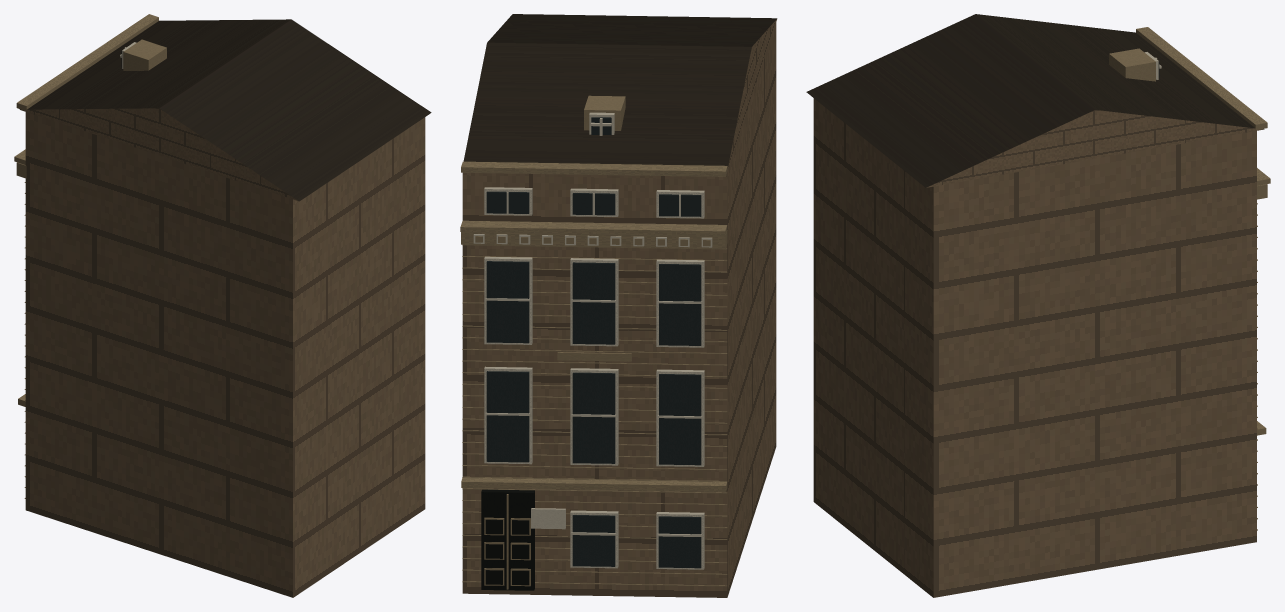
The picture shows the model from 3 angles, left to right: view 1: azimuth 30°, elevation 25°; view 2: azimuth 150°, elevation 25°; view 3: azimuth 270°, elevation 25°; orthographic projection. The views are drawn at different scales.
Parts seen in each view (by area): view 1: haringvliet48-kweekschool-0, haringvliet48-kweekschool-1, haringvliet48-kweekschool-5; view 2: haringvliet48-kweekschool-0, haringvliet48-kweekschool-1, haringvliet48-kweekschool-3, haringvliet48-kweekschool-5, haringvliet48-kweekschool-2, haringvliet48-kweekschool-4; view 3: haringvliet48-kweekschool-0, haringvliet48-kweekschool-1, haringvliet48-kweekschool-5.
Boxes of the visible parts, x1,y1,x2,y2 form: haringvliet48-kweekschool-0: (20,108,425,597); haringvliet48-kweekschool-1: (20,19,431,201); haringvliet48-kweekschool-5: (14,14,166,498); haringvliet48-kweekschool-0: (462,19,776,597); haringvliet48-kweekschool-1: (463,14,776,176); haringvliet48-kweekschool-3: (486,117,701,568); haringvliet48-kweekschool-5: (460,95,727,589); haringvliet48-kweekschool-2: (473,112,712,569); haringvliet48-kweekschool-4: (481,489,534,590); haringvliet48-kweekschool-0: (813,98,1264,597); haringvliet48-kweekschool-1: (806,14,1263,187); haringvliet48-kweekschool-5: (1109,27,1270,530).
Bounding box in the file's own units: 11.26 × 15.55 × 14.23.
6 materials, 6 textured.
